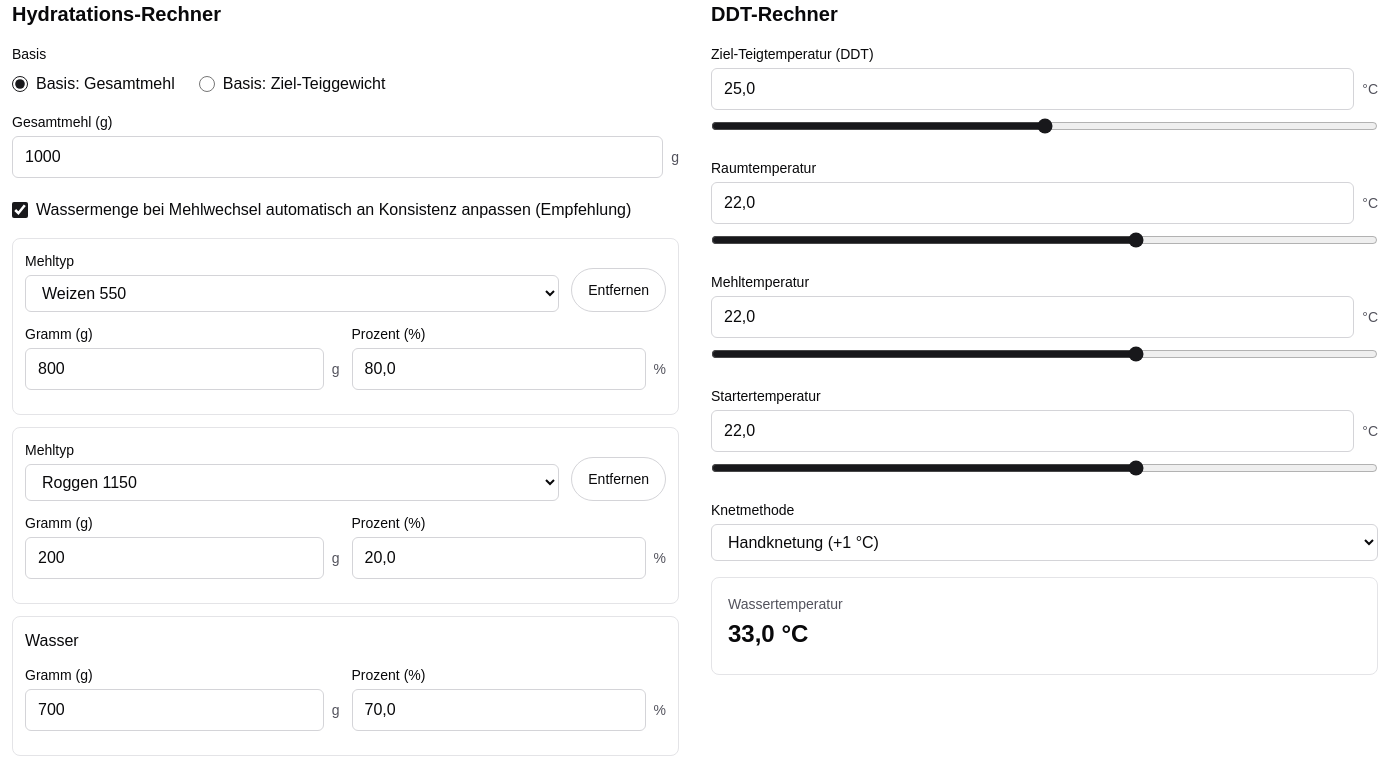
Test: F010 Hydratations-Rechner: Basis Gesamtmehl › F010/AC-1 rechnet beim Eintippen von Gesamtmehl ohne weiteren Klick alle Gramm und Kennzahlen neu
Step 1. Replace the text in the field labelled "Gesamtmehl (g)" with "500" → (338, 157), box x1=12 y1=136 x2=663 y2=178
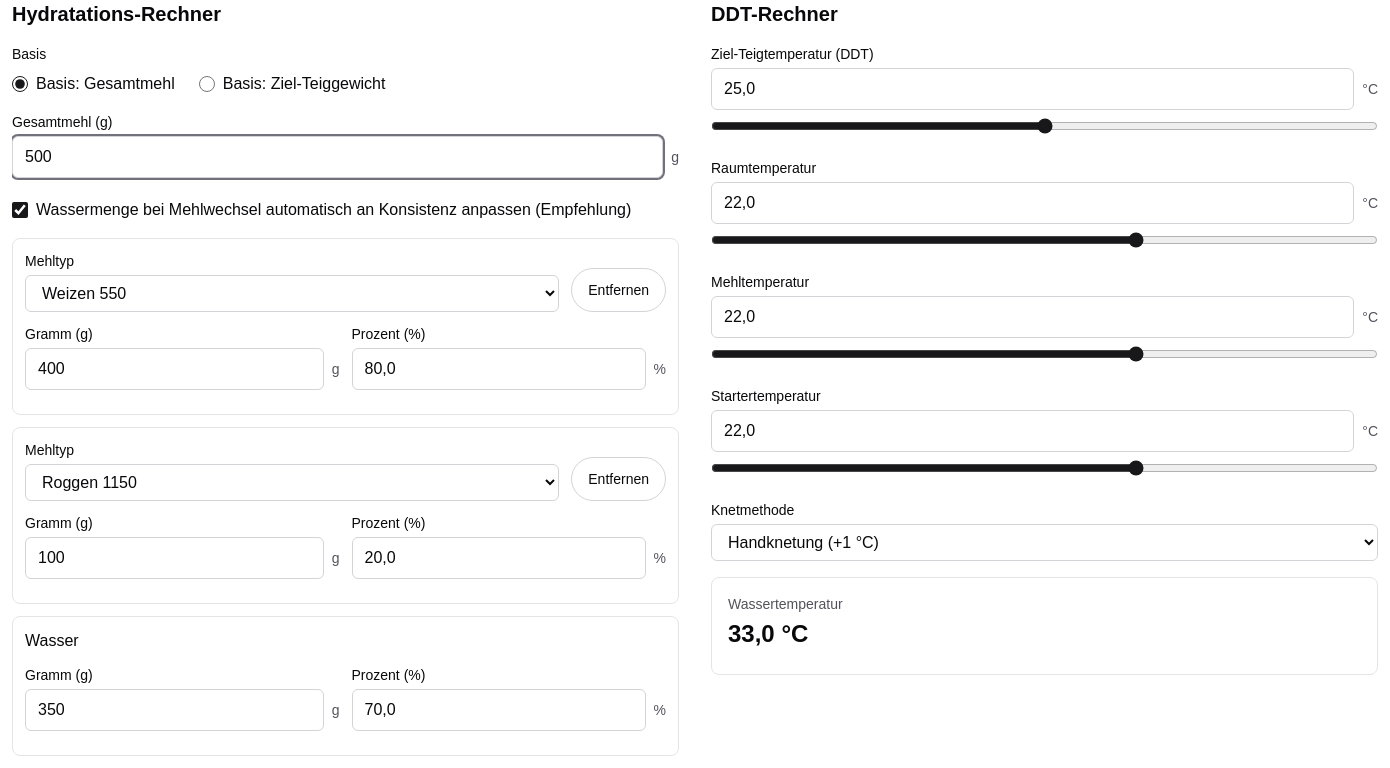
Expected: the 1st field labelled "Gramm (g)" holds "400", x1=25 y1=348 x2=324 y2=390
Expected: the 2nd field labelled "Gramm (g)" holds "100", x1=25 y1=537 x2=324 y2=579
Expected: the 3rd field labelled "Gramm (g)" holds "350", x1=25 y1=689 x2=324 y2=731
Step 2. Replace the text in the field labelled "Gesamtmehl (g)" with "1000" → (338, 157), box x1=12 y1=136 x2=663 y2=178
(page scrolled)
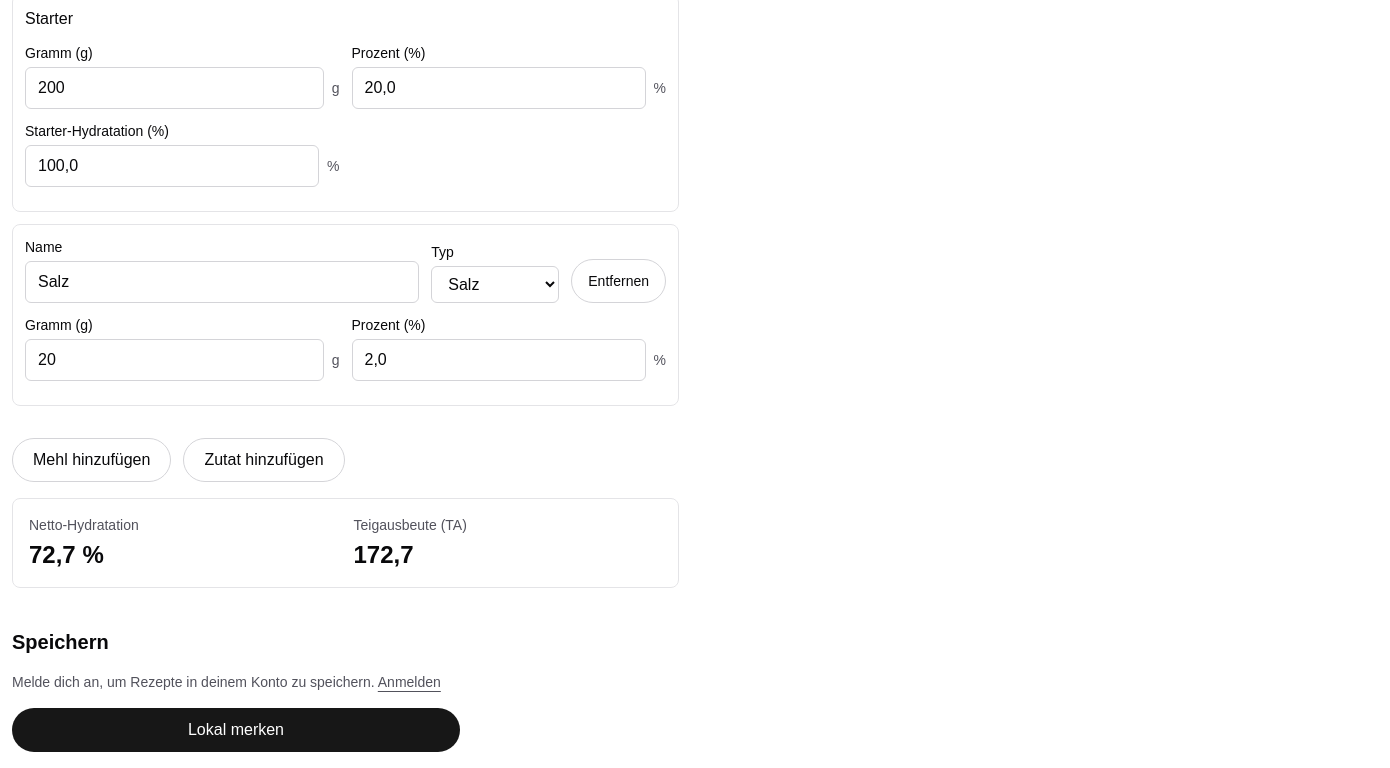
Expected: the 1st field labelled "Gramm (g)" holds "200", x1=25 y1=67 x2=324 y2=109
Expected: the field labelled "Gramm (g)" below "Name" holds "20", x1=25 y1=339 x2=324 y2=381
Expected: the text named "Netto-Hydratation" reads "72,7 %", x1=29 y1=541 x2=104 y2=568
